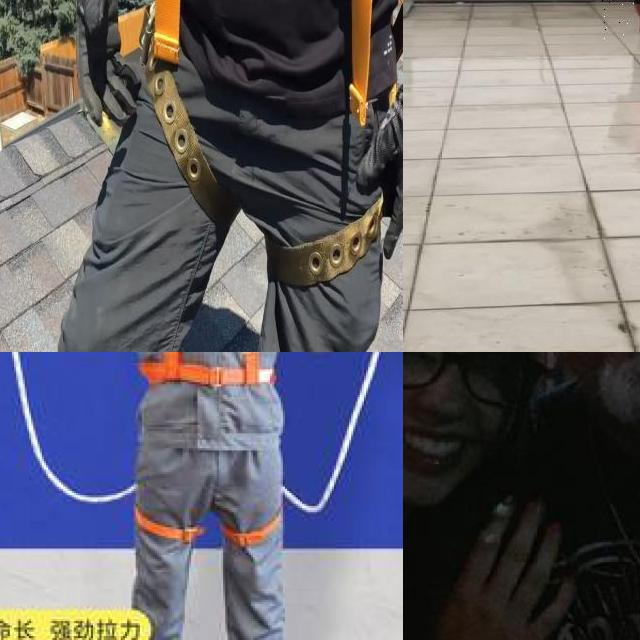Harness: (148, 0, 393, 294), (135, 352, 288, 437), (350, 0, 374, 126)
boots: (629, 1, 640, 35)
face_nomask: (403, 352, 514, 478)
glasses: (403, 352, 519, 412)
hand_noglove: (425, 485, 571, 640)
